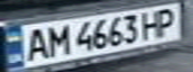3: (121, 11, 145, 44)
4: (72, 18, 96, 52)
6: (90, 16, 112, 50), (106, 15, 127, 48)
A: (21, 25, 51, 62)
H: (139, 8, 166, 39)
M: (42, 22, 72, 56)
P: (151, 6, 181, 37)
